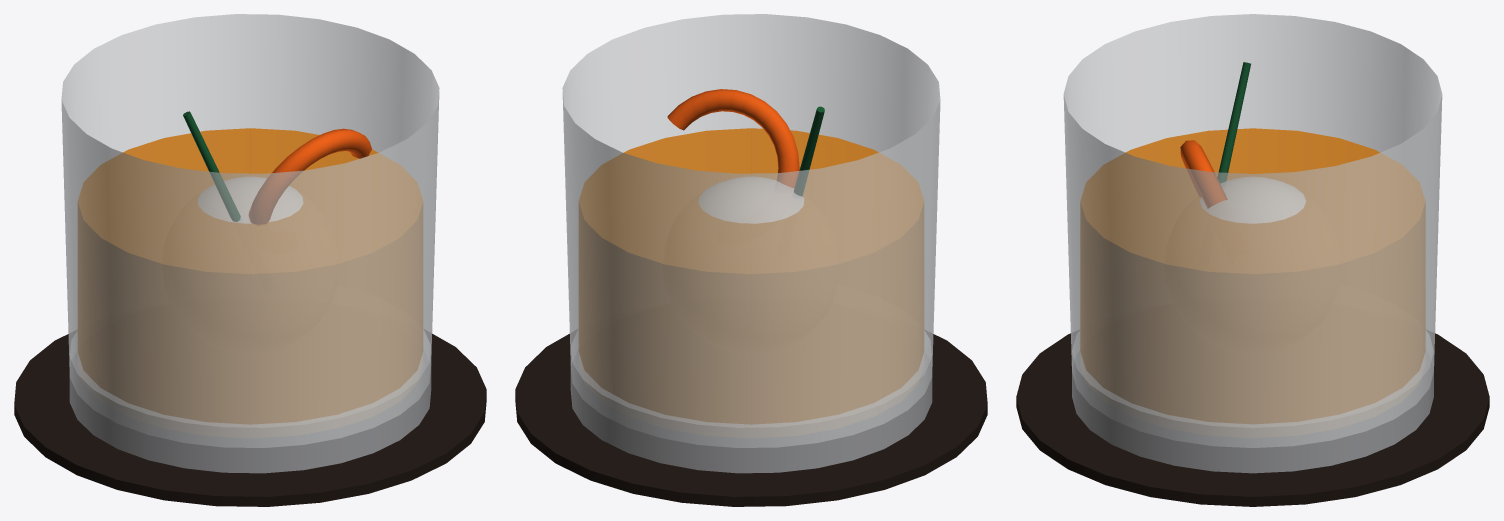
The model's file is old-fashioned.glb.
The picture shows the model from 3 angles, left to right: view 1: azimuth 30°, elevation 25°; view 2: azimuth 150°, elevation 25°; view 3: azimuth 270°, elevation 25°; orthographic projection.
Size of the model in its own units: 1.7 by 1.24 by 1.7.
